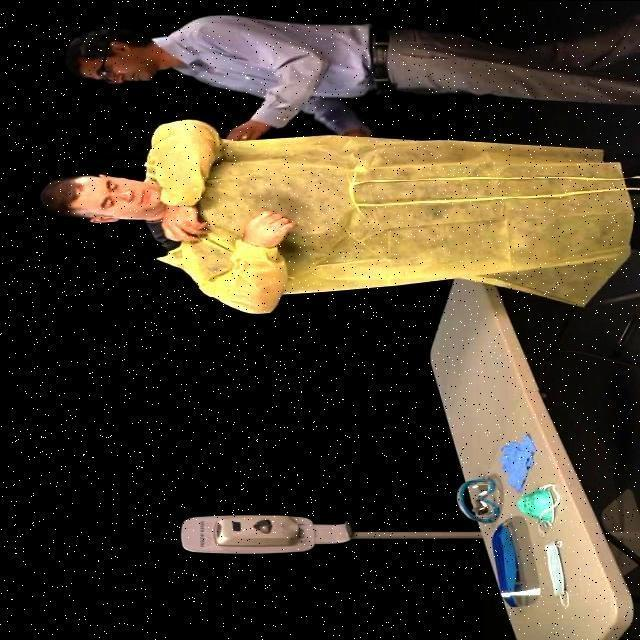no_apron: (240, 206, 289, 250), (167, 204, 214, 248)
no_hairnet: (112, 183, 152, 215), (106, 64, 147, 88)
